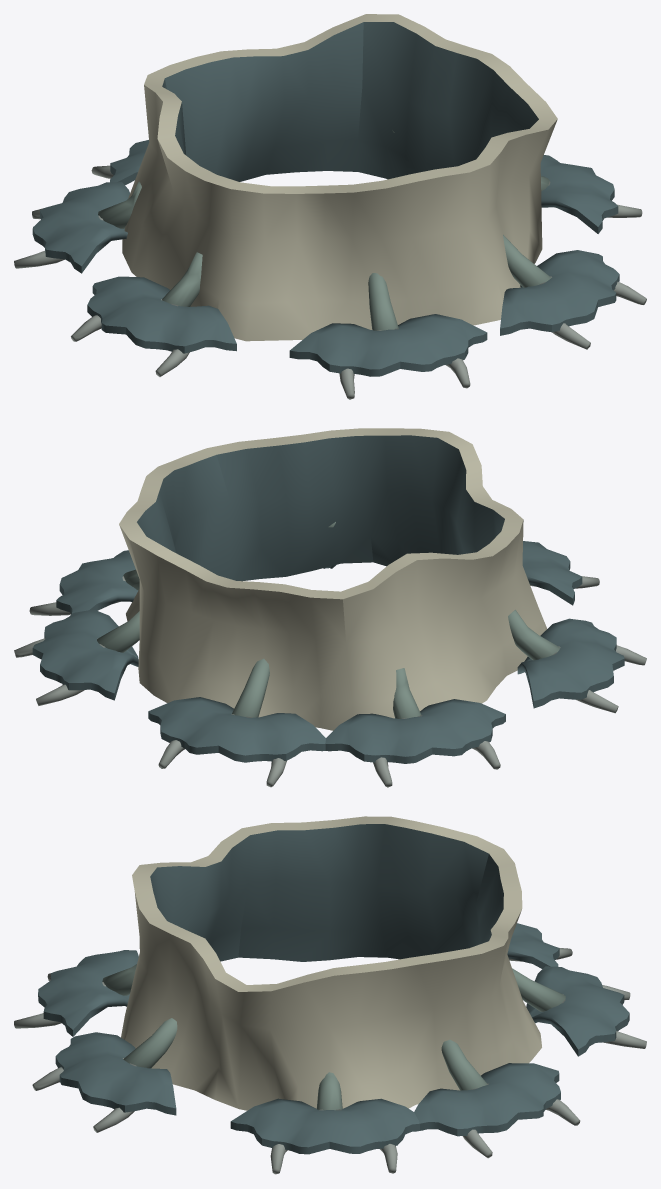
File: calcified_pipe_collar_lod1.glb
3 renders of one model, top to bottom at view 1: azimuth 30°, elevation 25°; view 2: azimuth 150°, elevation 25°; view 3: azimuth 270°, elevation 25°, orthographic. The views are drawn at different scales.
Visible parts, largest first — view 1: LOD1_tissue_fold, LOD1_calcite, LOD1_tissue_mature, LOD1_tissue; view 2: LOD1_tissue_fold, LOD1_calcite, LOD1_tissue_mature, LOD1_tissue; view 3: LOD1_tissue_fold, LOD1_calcite, LOD1_tissue_mature, LOD1_tissue.
Boxes of the visible parts, x1,y1,x2,y2 form: LOD1_tissue_fold: (32, 22, 619, 376); LOD1_calcite: (122, 14, 557, 341); LOD1_tissue_mature: (98, 130, 550, 330); LOD1_tissue: (14, 165, 646, 399); LOD1_tissue_fold: (32, 435, 624, 763); LOD1_calcite: (119, 428, 546, 730); LOD1_tissue_mature: (97, 522, 560, 718); LOD1_tissue: (14, 576, 646, 787); LOD1_tissue_fold: (38, 824, 629, 1154); LOD1_calcite: (121, 816, 541, 1110); LOD1_tissue_mature: (102, 964, 565, 1110); LOD1_tissue: (14, 948, 646, 1174).
Size of the model in its own units: 3.58 by 1 by 3.6.
